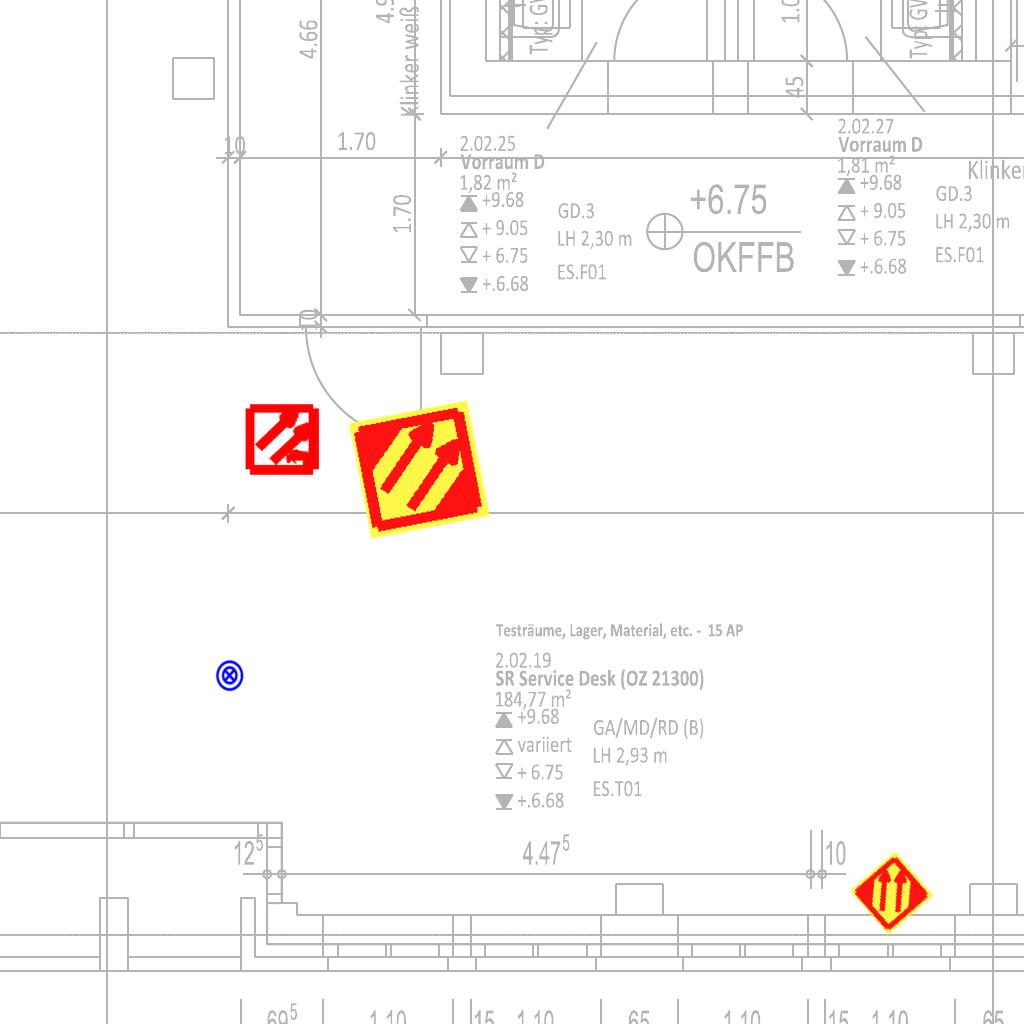ASR_Ansaugrauchmelder: (346, 396, 493, 543), (848, 849, 936, 937)
OT_Multisensormelder_(Kombination_RMO_WMD): (228, 383, 341, 496)
Taster_beleuchtet: (213, 659, 246, 692)
